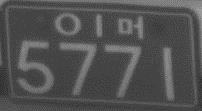0: (53, 12, 82, 37)
1: (153, 47, 184, 103), (88, 13, 111, 38)
5: (16, 39, 54, 95)
7: (102, 43, 143, 99), (57, 40, 97, 96)
머: (117, 14, 144, 40)
